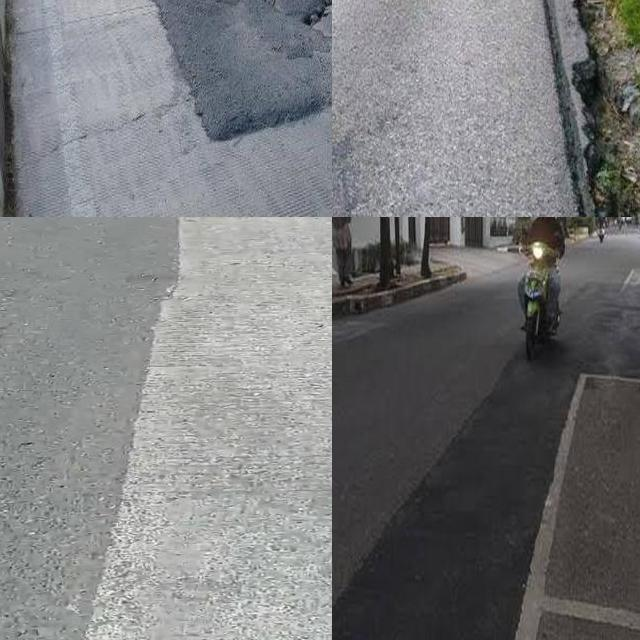Pinggir: (518, 0, 640, 217)
Sambungan: (72, 217, 332, 640), (332, 284, 640, 640), (141, 0, 332, 144)
